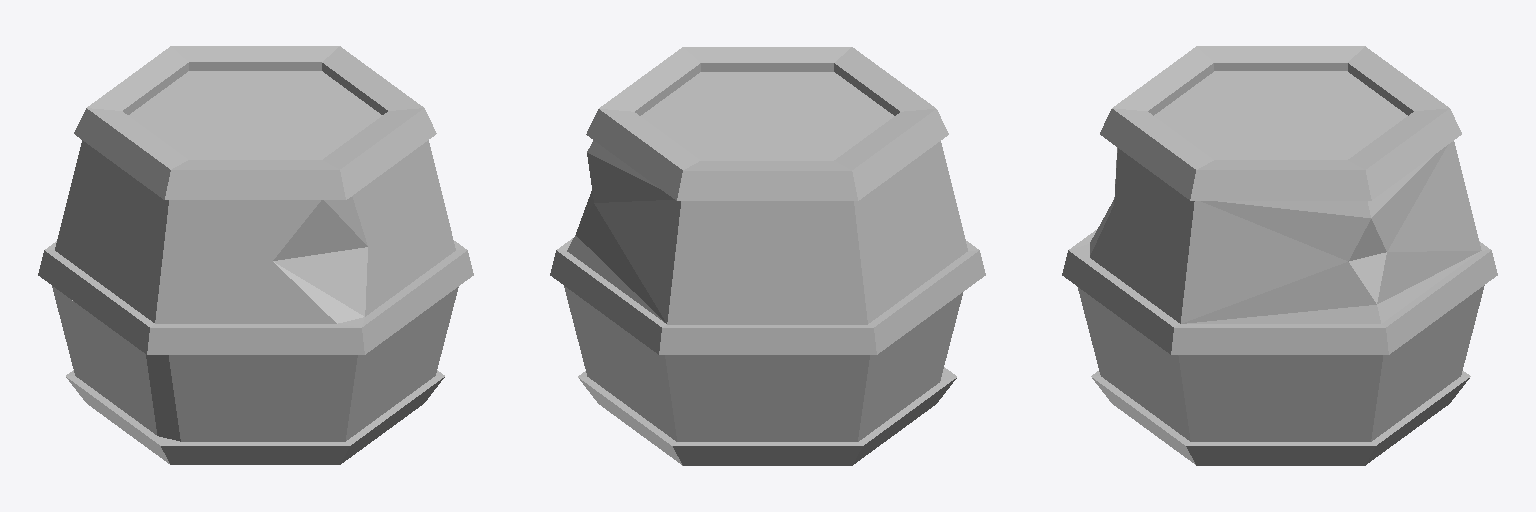
File: misc012.obj
3 views of the same model, side by side, from view 1: azimuth 30°, elevation 25°; view 2: azimuth 150°, elevation 25°; view 3: azimuth 270°, elevation 25° (orthographic).
Visible parts, largest first — view 1: misc012; view 2: misc012; view 3: misc012.
Part boxes in pixels (left/top/right/bottom): misc012: left=38, top=46, right=473, bottom=464; misc012: left=550, top=47, right=985, bottom=465; misc012: left=1062, top=46, right=1497, bottom=465.
Bounding box in the file's own units: 0.0152 × 0.0131 × 0.0175.